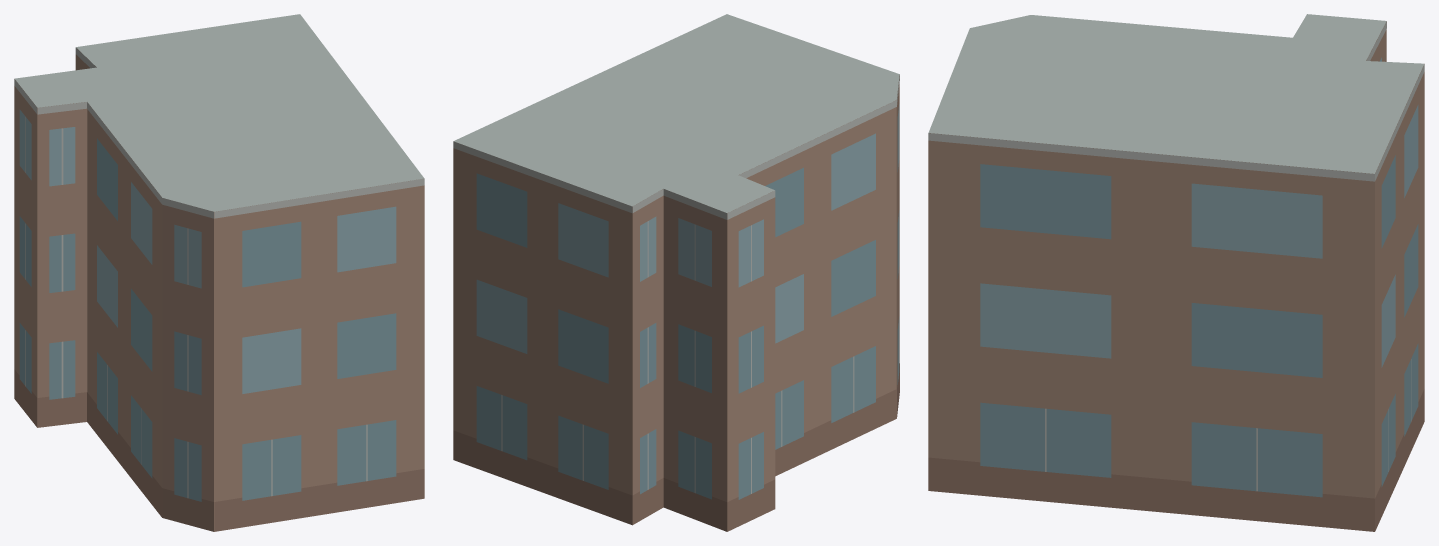
The model's file is survey-upis-32672523.glb.
3 renders of one model, left to right at view 1: azimuth 30°, elevation 25°; view 2: azimuth 150°, elevation 25°; view 3: azimuth 270°, elevation 25°, orthographic. The views are drawn at different scales.
Parts seen in each view (by area): view 1: survey-upis-32672523.tmp; view 2: survey-upis-32672523.tmp; view 3: survey-upis-32672523.tmp.
Part boxes in pixels (bbox=[...]): survey-upis-32672523.tmp: bbox=[14, 14, 424, 531]; survey-upis-32672523.tmp: bbox=[453, 14, 899, 531]; survey-upis-32672523.tmp: bbox=[928, 14, 1424, 531].
Bounding box in the file's own units: 10.88 × 11.34 × 14.25.
